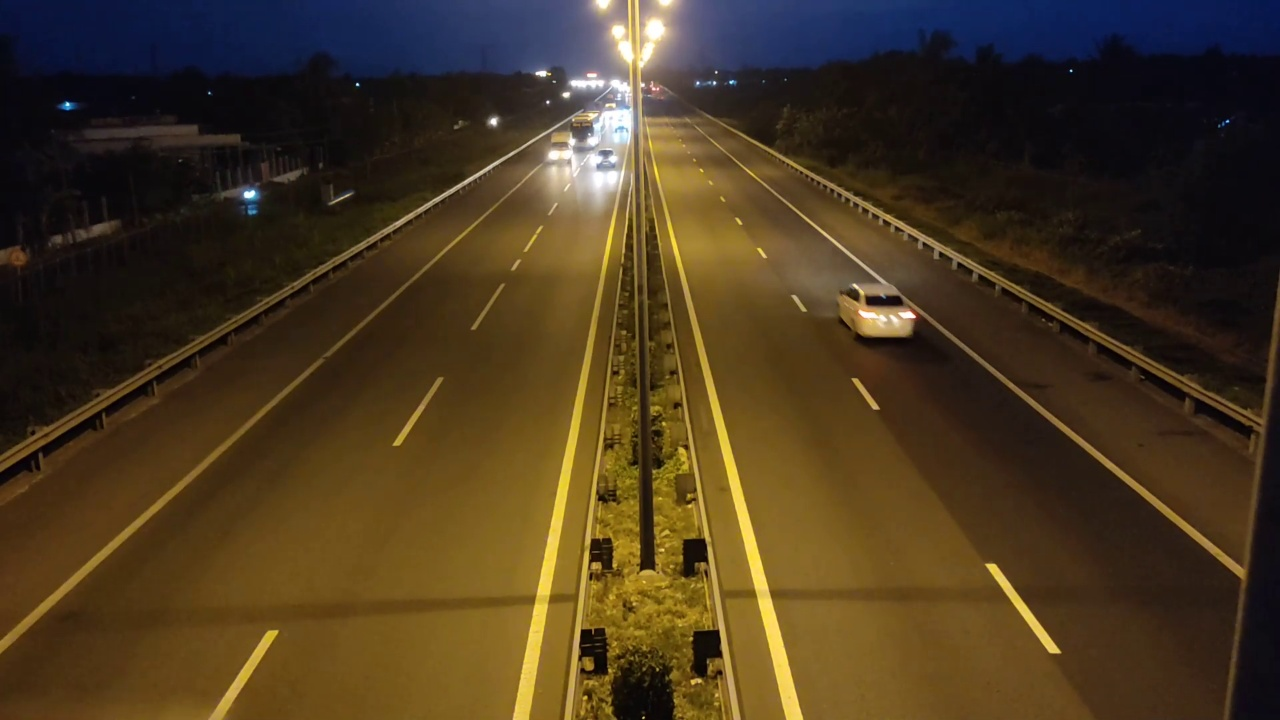car: (837, 281, 918, 339)
